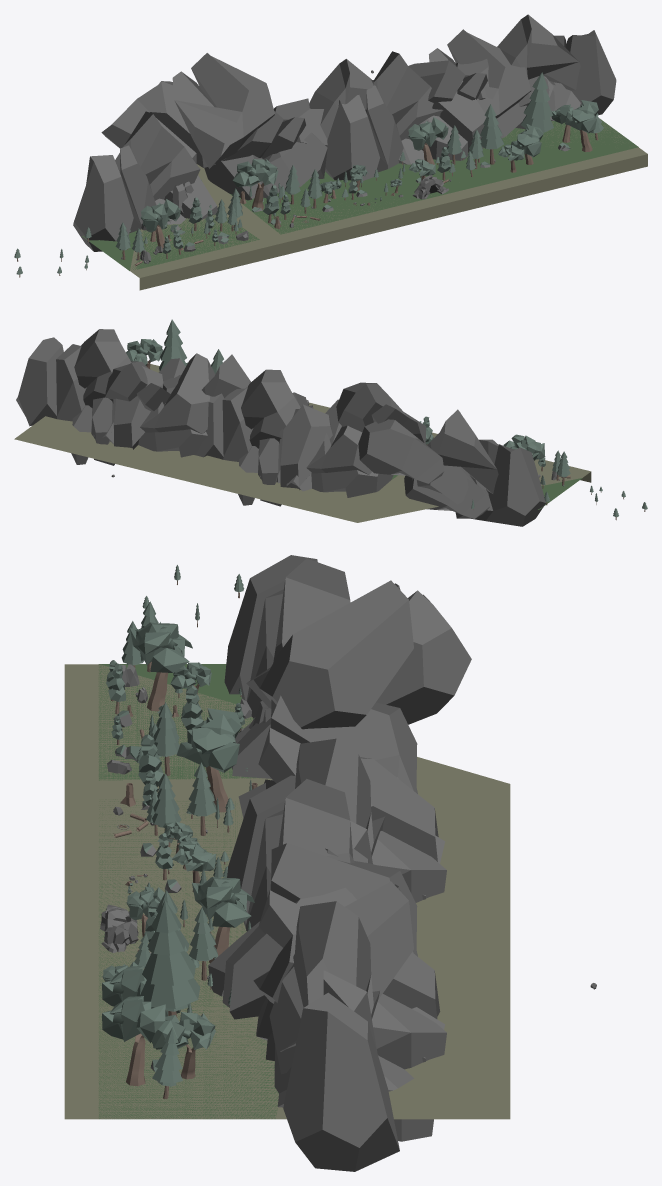
Rendered from silvaforest1og.fbx.
The picture shows the model from 3 angles, top to bottom: view 1: azimuth 30°, elevation 25°; view 2: azimuth 150°, elevation 25°; view 3: azimuth 270°, elevation 25°; orthographic projection. The views are drawn at different scales.
Parts seen in each view (by area): view 1: pPlane2, pPlane1, pasted__pPlatonic40, pasted__pPlatonic33, pasted__pPlatonic34, pasted__pPlatonic28, pasted__pPlatonic41, pasted__pPlatonic29, pasted__pPlatonic46, pasted__pPlatonic42, pasted__pPlatonic31, pasted__pPlatonic44 (+11 smaller); view 2: pasted__pPlatonic40, pasted__pPlatonic34, pPlane2, pasted__pPlatonic28, pasted__pPlatonic29, pasted__pPlatonic31, pasted__pPlatonic33, pasted__pPlatonic46, pasted__pPlatonic30, pasted__pPlatonic42, pasted__pCylinder21, pasted__pCylinder23 (+2 smaller); view 3: pPlane2, pasted__pPlatonic40, pPlane1, pasted__pPlatonic34, pasted__pPlatonic33, pasted__pPlatonic31, pasted__pPlatonic28, pasted__pPlatonic46, pasted__pPlatonic41, pasted__pPlatonic44, pasted__pPlatonic42, pasted__pPlatonic29 (+11 smaller).
Part boxes in pixels (x1,y1,x2,y2): pPlane2: (130, 119, 647, 290); pPlane1: (82, 119, 638, 270); pasted__pPlatonic40: (408, 14, 616, 120); pasted__pPlatonic33: (172, 53, 274, 168); pasted__pPlatonic34: (204, 59, 373, 200); pasted__pPlatonic28: (73, 145, 156, 251); pasted__pPlatonic41: (325, 85, 403, 180); pasted__pPlatonic29: (115, 111, 200, 200); pasted__pPlatonic46: (429, 29, 530, 118); pasted__pPlatonic42: (373, 51, 443, 140); pasted__pPlatonic31: (101, 81, 215, 167); pasted__pPlatonic44: (410, 81, 486, 160); pasted__pPlatonic40: (16, 329, 215, 465); pasted__pPlatonic34: (194, 369, 393, 506); pPlane2: (14, 364, 591, 522); pasted__pPlatonic28: (455, 439, 545, 526); pasted__pPlatonic29: (412, 409, 498, 504); pasted__pPlatonic31: (358, 419, 444, 483); pasted__pPlatonic33: (336, 382, 426, 443); pasted__pPlatonic46: (105, 361, 170, 411); pasted__pPlatonic30: (404, 475, 489, 518); pasted__pPlatonic42: (202, 354, 250, 397); pasted__pCylinder21: (126, 339, 162, 368); pasted__pCylinder23: (503, 434, 545, 460); pPlane2: (64, 664, 510, 1119); pasted__pPlatonic40: (258, 843, 446, 1171); pPlane1: (98, 664, 278, 1119); pasted__pPlatonic34: (238, 695, 446, 902); pasted__pPlatonic33: (246, 580, 413, 729); pasted__pPlatonic31: (376, 590, 471, 724); pasted__pPlatonic28: (224, 555, 317, 718); pasted__pPlatonic46: (253, 881, 413, 1003); pasted__pPlatonic41: (227, 775, 295, 931); pasted__pPlatonic44: (208, 888, 356, 1019); pasted__pPlatonic42: (278, 779, 354, 863); pasted__pPlatonic29: (273, 558, 350, 662).
Bounding box in the file's own units: 2121 × 490 × 834.
